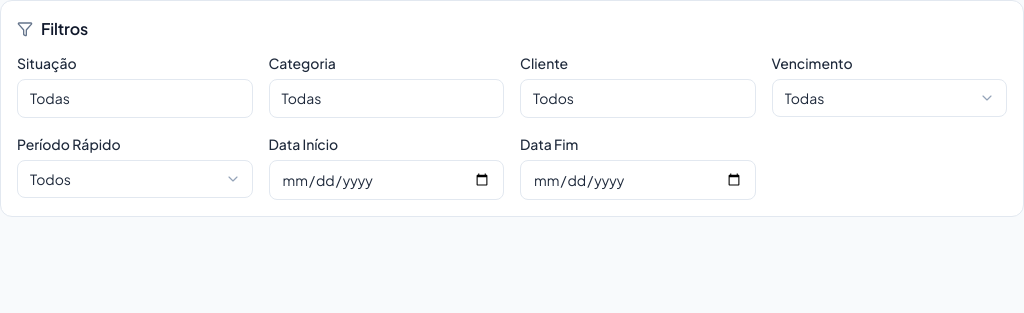
Test case: MultiSelect na barra de filtros de Contas › a busca filtra a lista daquele filtro
Step 1. Click the button "Todas" below "Categoria" → (386, 98), box x1=268 y1=79 x2=504 y2=118
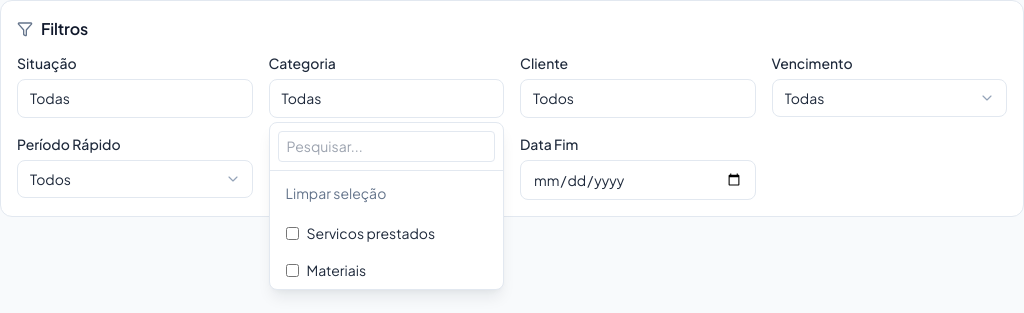
Step 2. Type "mater" into the field with placeholder "Pesquisar..." → (386, 146), box x1=278 y1=131 x2=495 y2=162
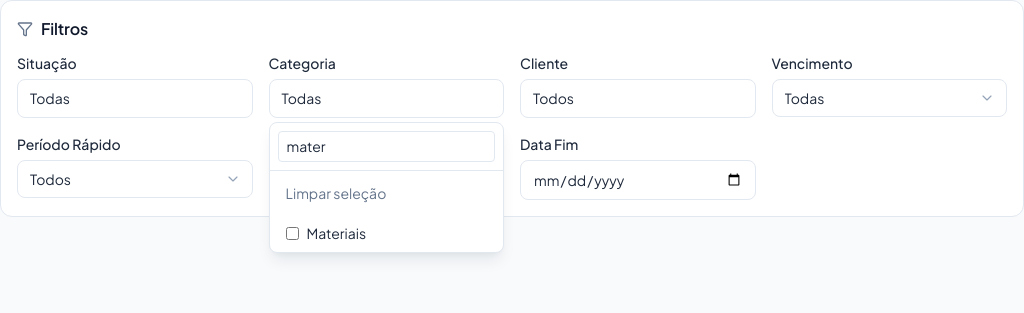
Result: the checkbox labelled "Materiais" is shown at x1=286 y1=227 x2=298 y2=240
Result: the text "Servicos prestados" is gone
